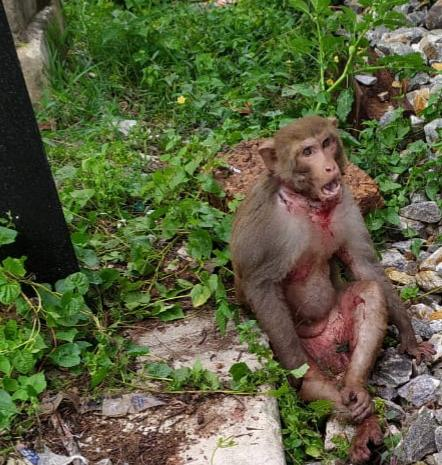cut: (296, 289, 371, 397), (257, 182, 352, 241)
